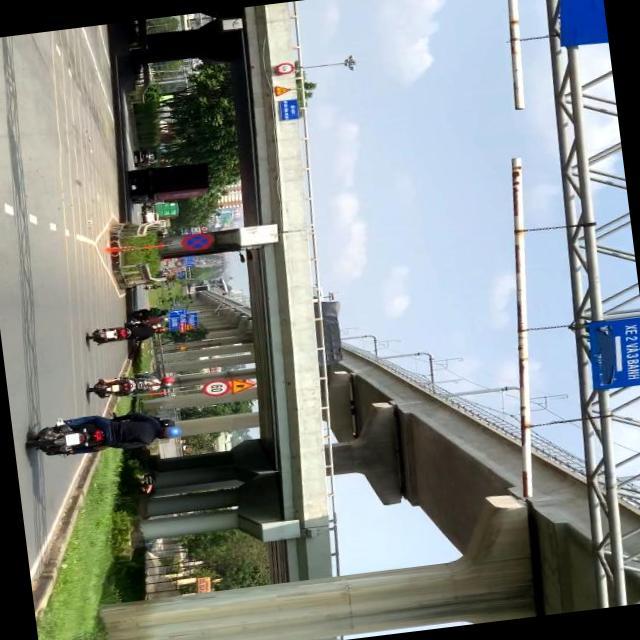P-127: (199, 379, 230, 397)
P-130: (179, 232, 217, 252)
W-207b: (228, 377, 260, 393)
